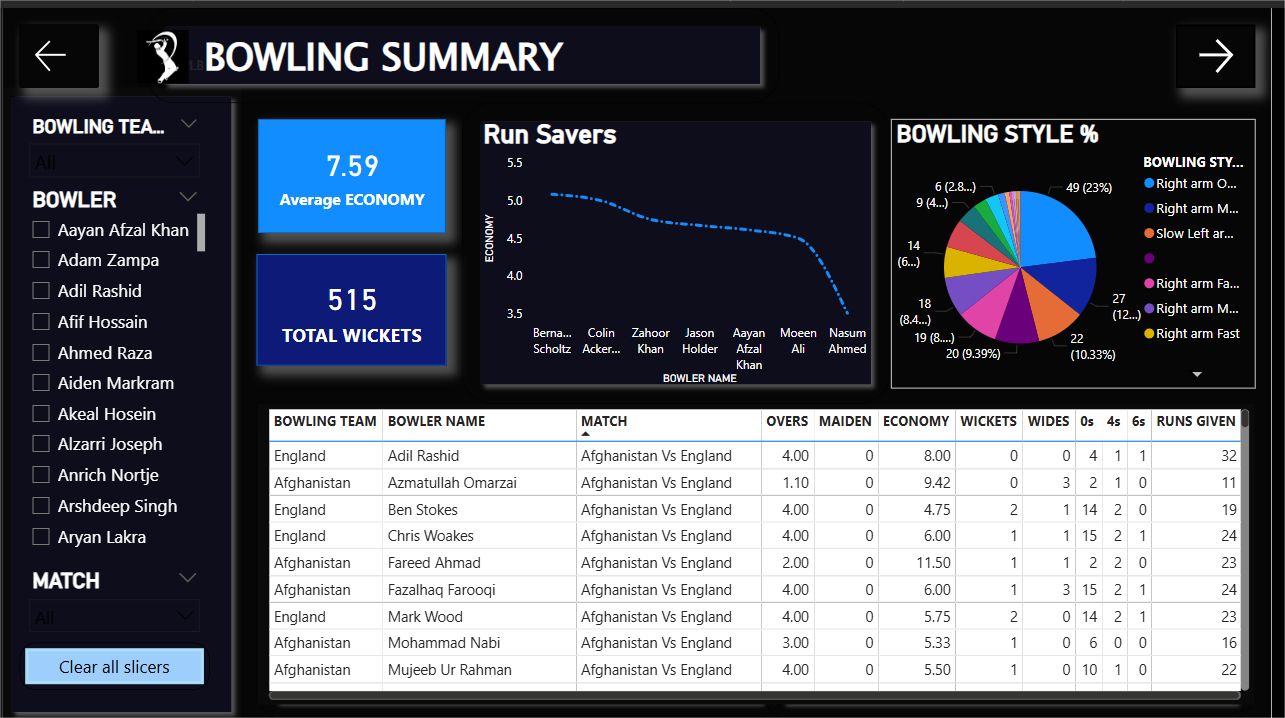

What the dashboard file says about the page in this screenshot:
{"tool":"powerbi","page":{"name":"BOWLING DATA","canvas":[1280,720],"ordinal":2},"visuals":[{"type":"shape","box":[0,80,240,640],"z":0},{"type":"shape","box":[144,0,640,96],"z":1000},{"type":"actionButton","box":[16,16,80,64],"z":2000},{"type":"textbox","box":[176,16,416,80],"z":3000},{"type":"shape","box":[258.1,111.6,189.5,115.1],"z":4000},{"type":"actionButton","box":[1184,16,80,64],"z":5000},{"type":"shape","box":[464,96,432,304],"z":6000},{"type":"shape","box":[256,400,528,320],"z":7000},{"type":"shape","box":[768,448,496,272],"z":8000},{"type":"actionButton","box":[16,640,192,48],"z":9000},{"type":"shape","box":[255.8,247.7,191.9,112.8],"z":10000},{"type":"card","fields":{"Values":["bowling_summary.ECONOMY"]},"box":[256,112,192,112],"z":11000},{"type":"card","fields":{"Values":["bowling_summary.WICKETS"]},"box":[256,256,192,96],"z":12000},{"type":"slicer","fields":{"Values":["bowling_summary.BOWLING TEAM"]},"box":[16.3,102.3,191.9,76.7],"z":13000},{"type":"slicer","fields":{"Values":["bowling_summary.BOWLER NAME"]},"box":[16,176,192,384],"z":14000},{"type":"slicer","fields":{"Values":["bowling_summary.MATCH"]},"box":[16.3,560.5,191.9,77.9],"z":15000},{"type":"tableEx","fields":{"Values":["bowling_summary.BOWLING TEAM","bowling_summary.BOWLER NAME","bowling_summary.MATCH","bowling_summary.OVERS","bowling_summary.MAIDEN","bowling_summary.ECONOMY","bowling_summary.WICKETS","bowling_summary.WIDES","bowling_summary.0s","bowling_summary.4s","bowling_summary.6s","bowling_summary.RUNS"]},"box":[258.1,400,1005.8,303.5],"z":16000},{"type":"lineChart","title":"Run Savers","fields":{"Y":["bowling_summary.ECONOMY"],"Category":["bowling_summary.BOWLER NAME"]},"box":[480,112,400,272],"z":17000},{"type":"image","box":[128,16,64,64],"z":18000},{"type":"pieChart","title":"BOWLING STYLE %","fields":{"Category":["players.BOWLING STYLE"],"Y":["players.NAME"]},"box":[896,112,368,272],"z":19000}]}

Visuals, with their boxes in screenshot pixels (x1, y1, x2, y2), scaled from the page's 1280x720 canvas onto the 1285x718 screenshot:
shape: 0 80 241 717
shape: 145 0 787 96
actionButton: 16 16 96 80
textbox: 177 16 594 96
shape: 259 111 449 226
actionButton: 1189 16 1269 80
shape: 466 96 900 399
shape: 257 399 787 717
shape: 771 447 1269 717
actionButton: 16 638 209 686
shape: 257 247 449 359
card - bowling_summary.ECONOMY: 257 112 450 223
card - bowling_summary.WICKETS: 257 255 450 351
slicer - bowling_summary.BOWLING TEAM: 16 102 209 179
slicer - bowling_summary.BOWLER NAME: 16 176 209 558
slicer - bowling_summary.MATCH: 16 559 209 637
tableEx - bowling_summary.BOWLING TEAM x bowling_summary.BOWLER NAME: 259 399 1269 702
"Run Savers" lineChart: 482 112 883 383
image: 128 16 193 80
"BOWLING STYLE %" pieChart: 900 112 1269 383
